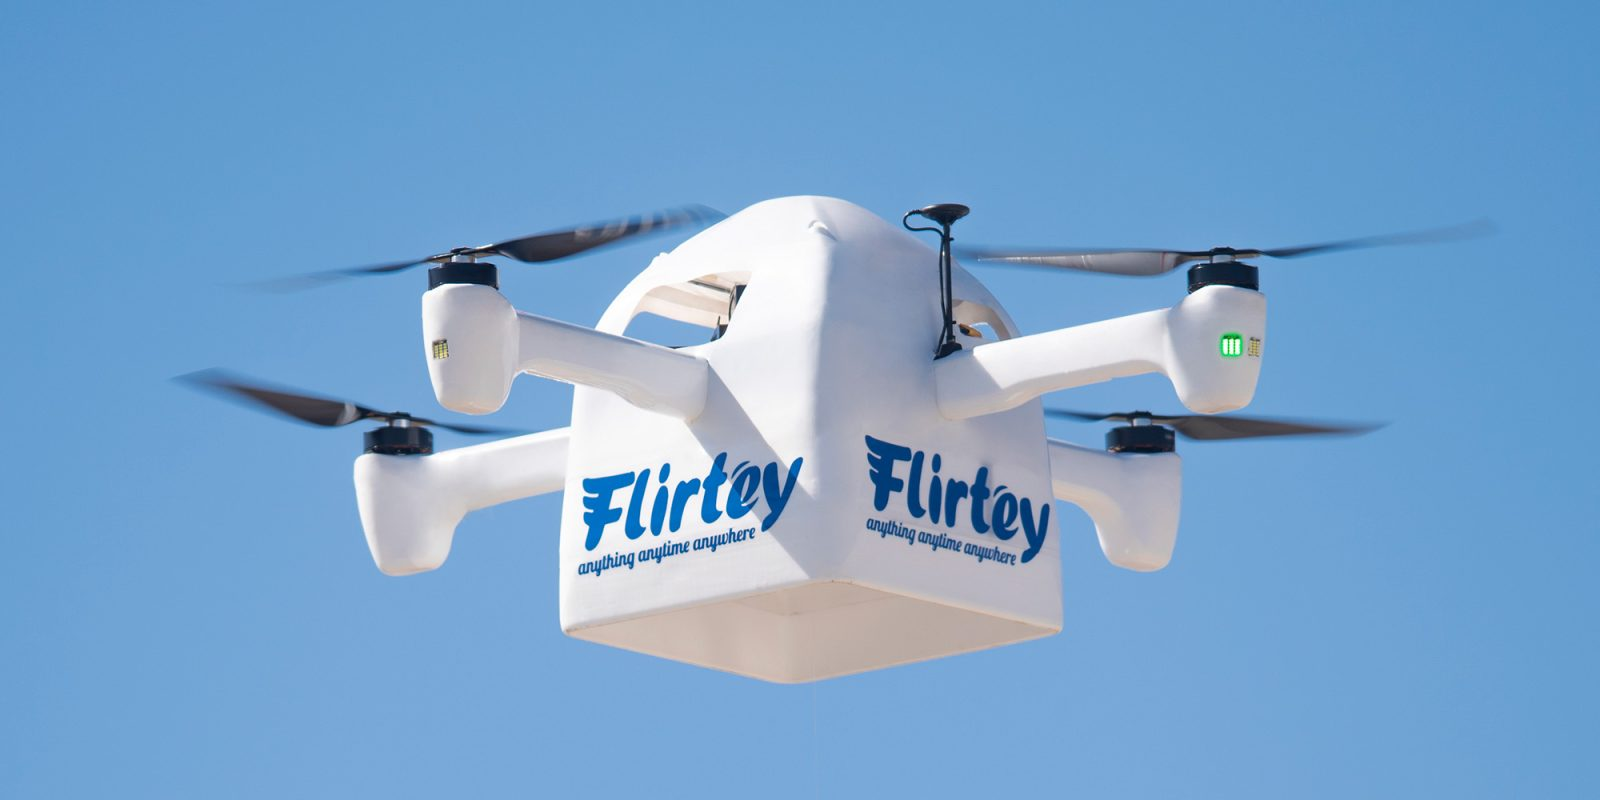drone: (154, 179, 1523, 695)
